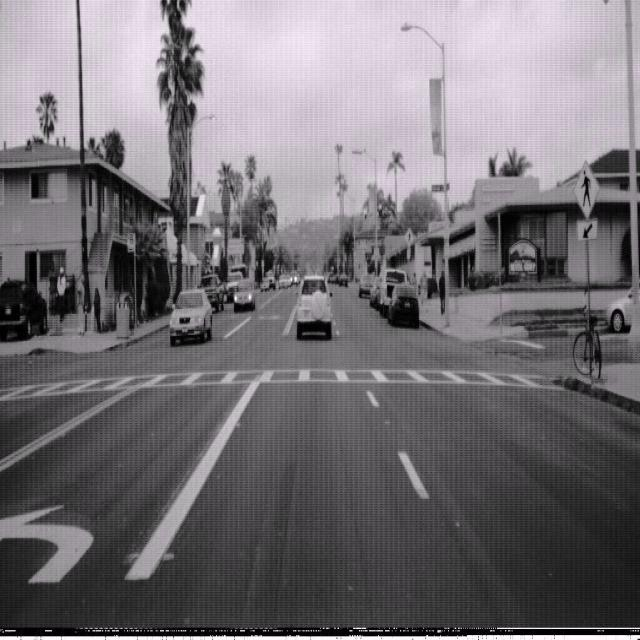pedestrianCrossing: (572, 157, 600, 219)
